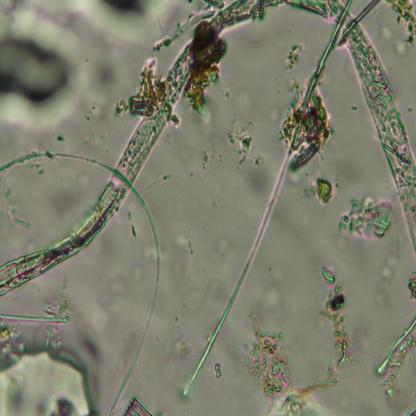Air bubble: (0, 336, 98, 416)
Background material: (1, 13, 106, 149), (237, 305, 331, 416), (310, 246, 354, 398), (281, 83, 333, 174), (342, 179, 398, 247), (126, 58, 167, 121), (226, 118, 268, 178), (108, 0, 158, 48), (46, 0, 90, 49), (263, 264, 296, 326), (387, 1, 416, 66), (204, 26, 228, 104), (0, 183, 26, 235), (168, 329, 195, 360), (94, 48, 114, 88), (316, 174, 340, 206), (384, 246, 402, 282), (198, 142, 220, 170), (286, 37, 301, 77), (212, 232, 230, 264), (409, 261, 416, 298), (213, 360, 223, 376)
Cotton: (1, 0, 416, 312)
Diatom: (121, 396, 156, 416)
Glass filter fibre: (182, 1, 353, 396), (0, 148, 163, 416), (375, 314, 416, 374), (0, 312, 70, 326)
